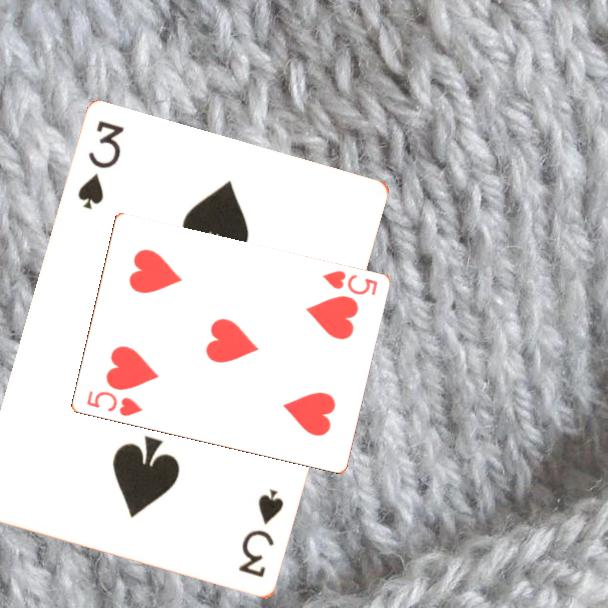h05: (318, 267, 380, 299), (83, 388, 145, 419)
s03: (74, 117, 127, 213), (235, 485, 287, 581)
